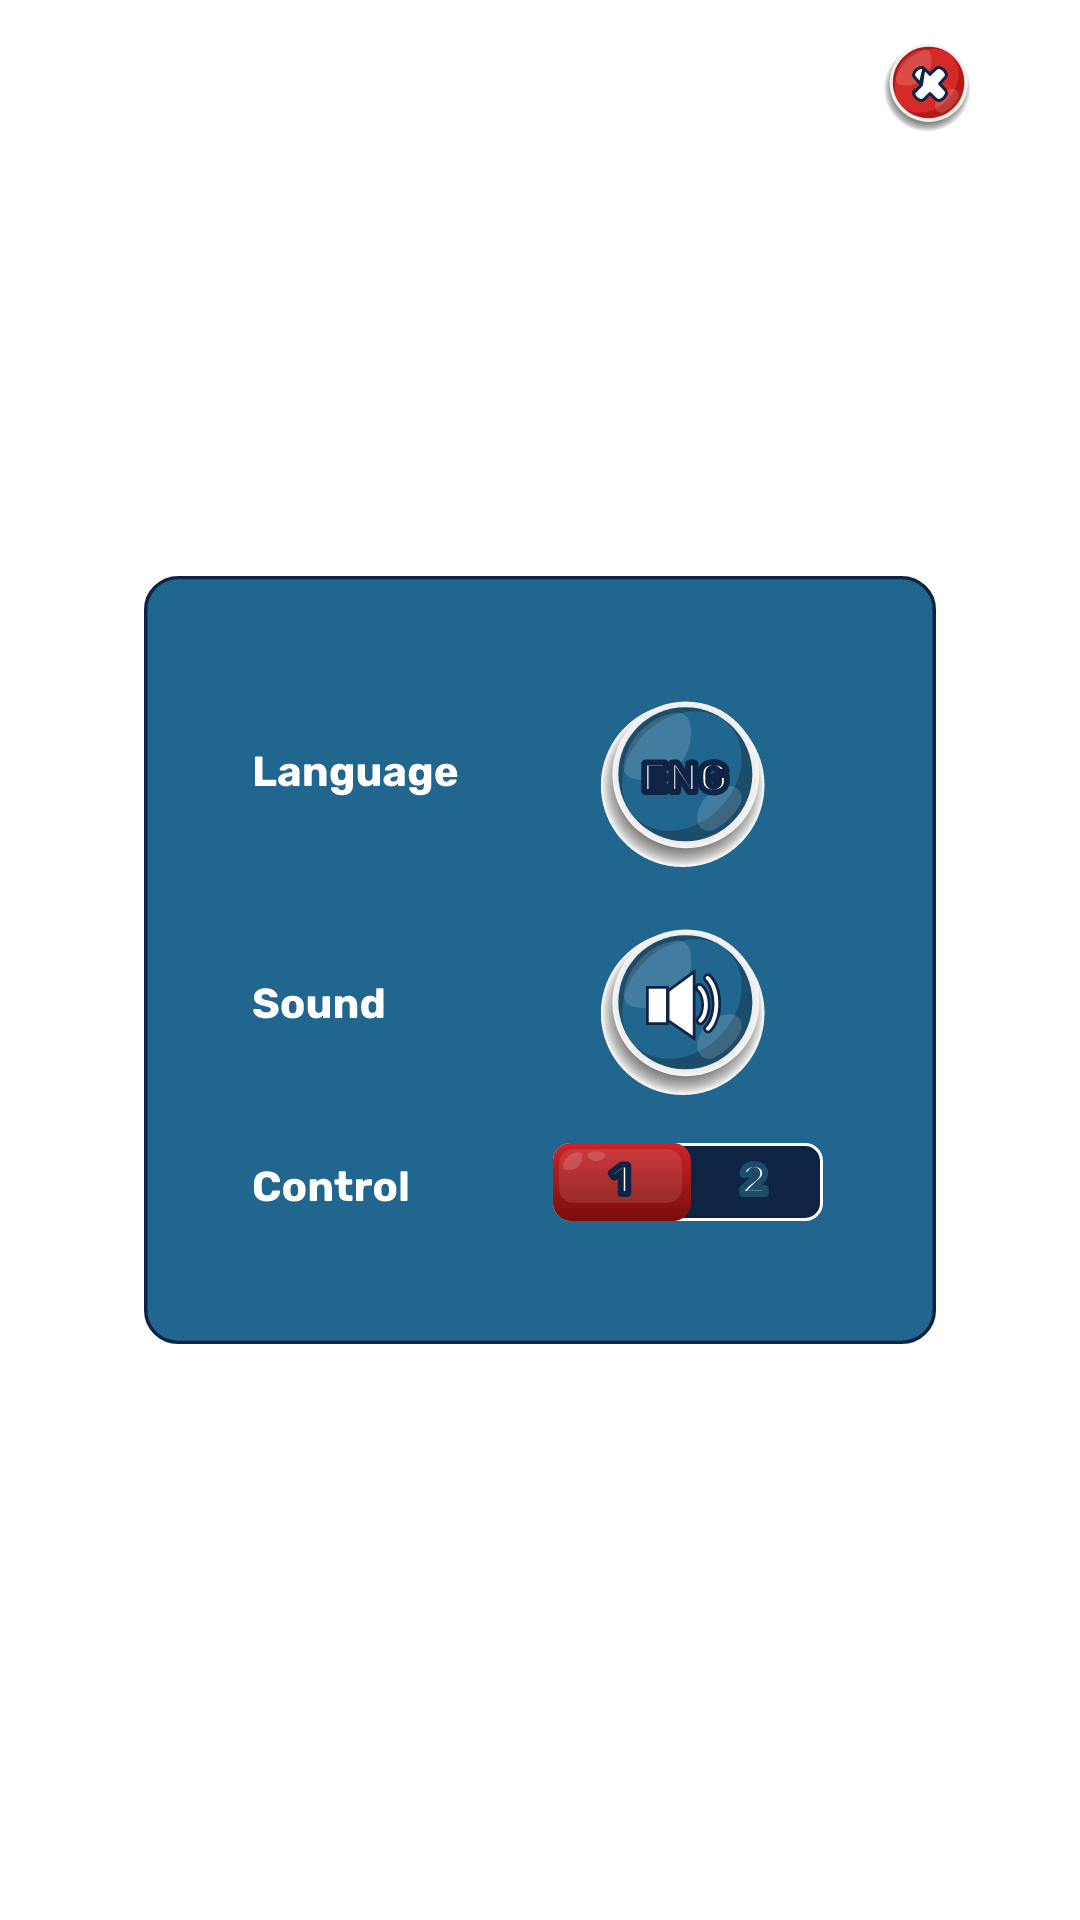

Where to tap for icons on this 1080w x 1920h app screen, as [x,y]:
close: [927,88]
sound on: [682,1012]
